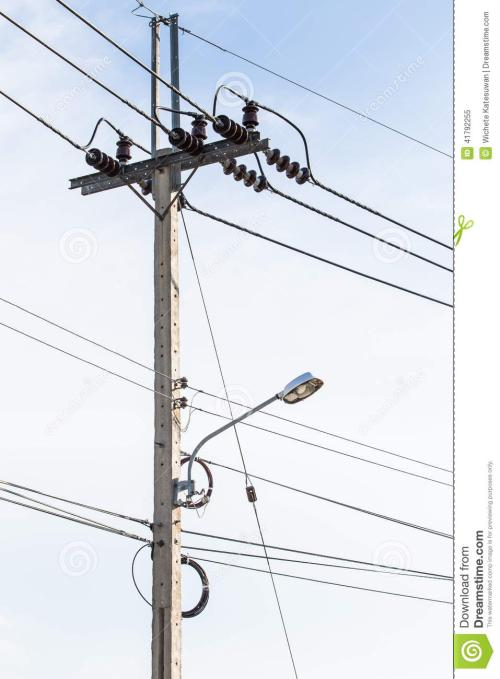utility_pole: (60, 10, 317, 227)
